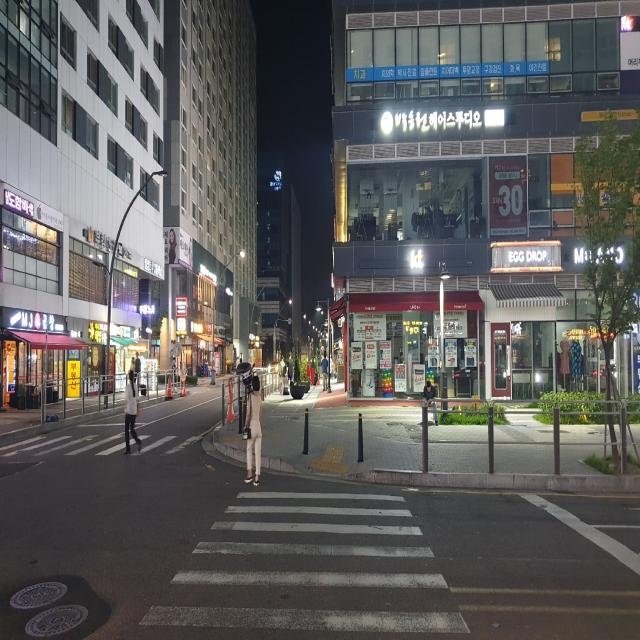횡단보도: (137, 488, 472, 637), (0, 406, 214, 462)
